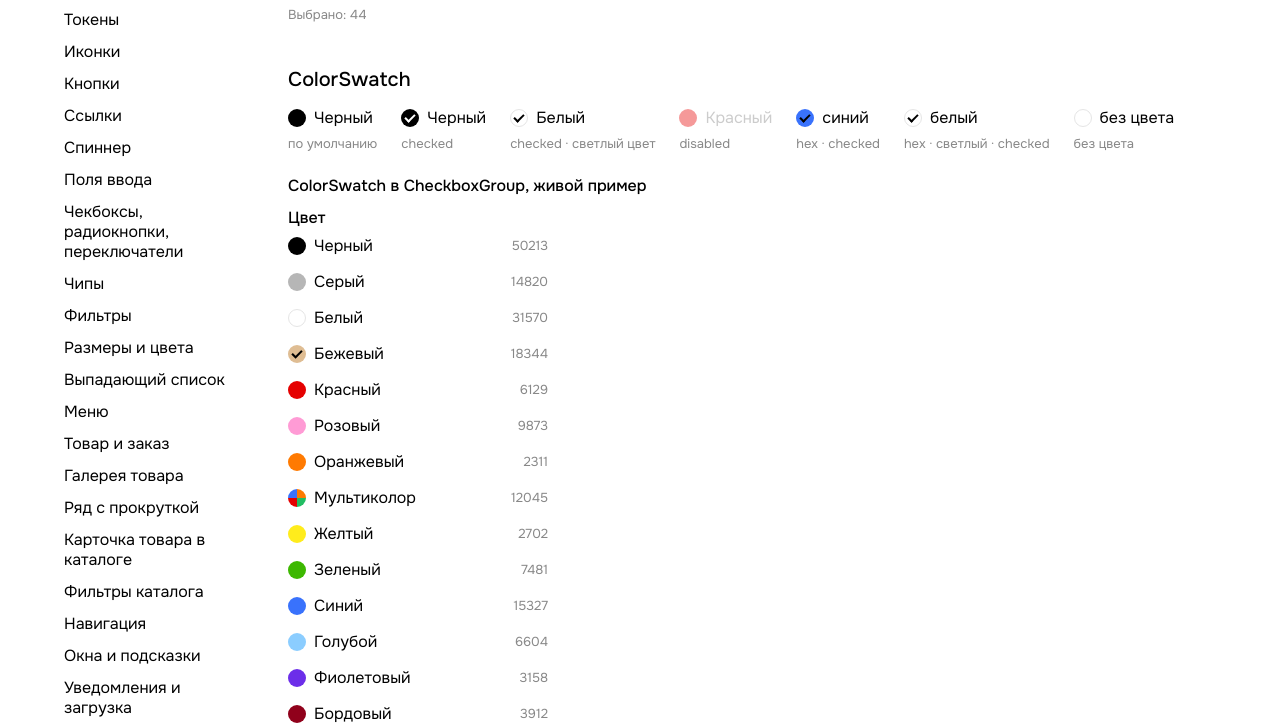
Test: ColorSwatch demo › starts with beige and lists the picked colours
(page scrolled)
Expected: the checkbox named "Бежевый" in the row of "18344" is checked, [288, 345, 306, 363]
Click the text "Красный" next to "6129" at coordinates (347, 390), box [314, 379, 381, 400]
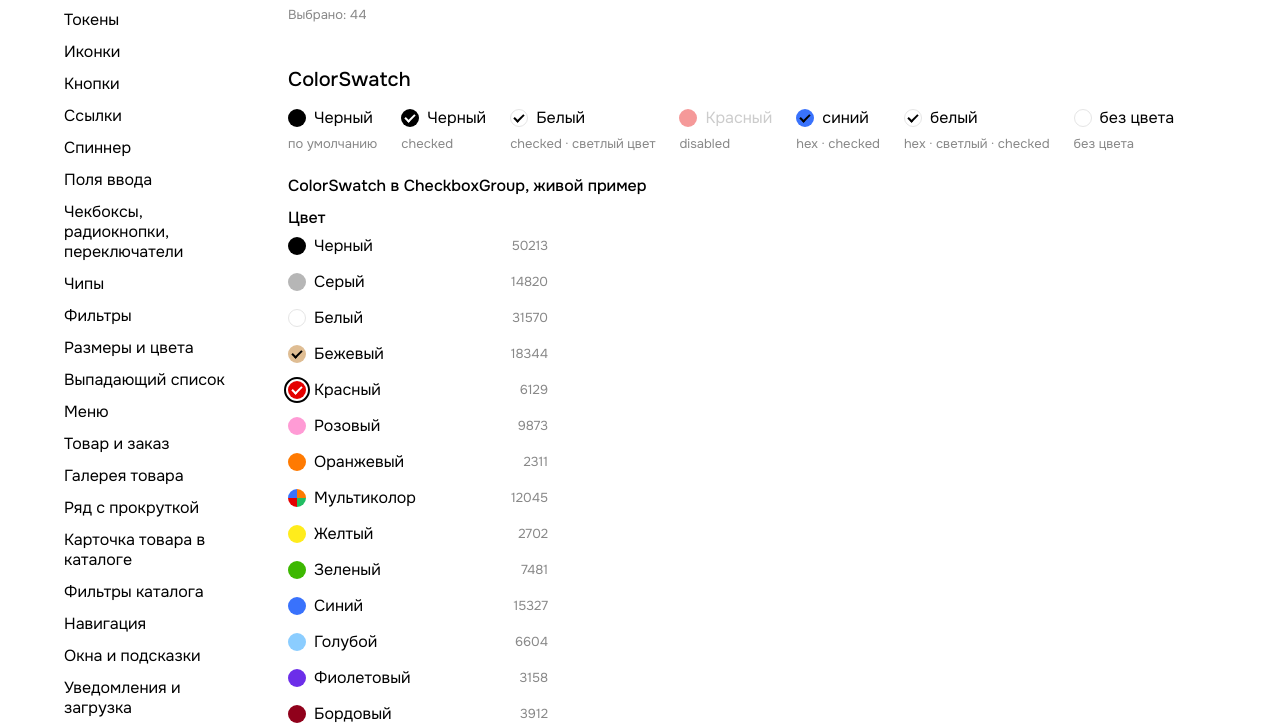
Click the text "Черный" next to "50213" at coordinates (343, 246), box [314, 235, 373, 256]
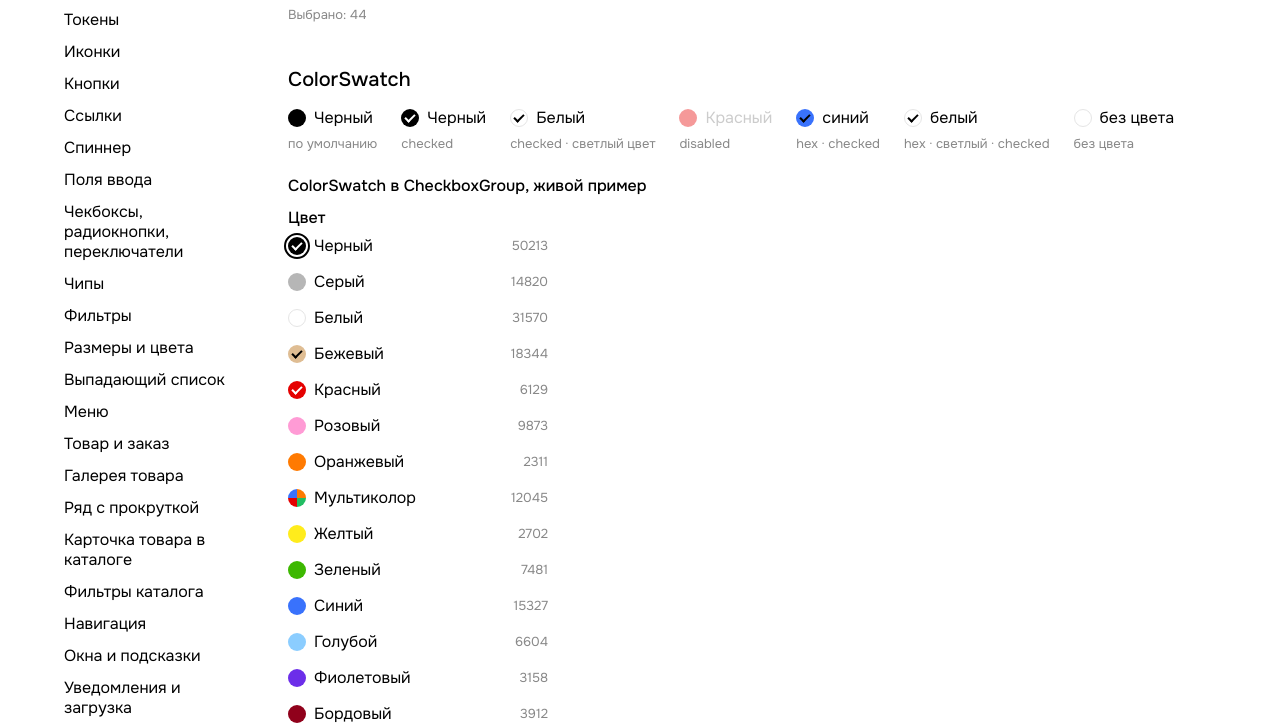
Click the text "Бежевый" at coordinates (349, 354), box [314, 343, 384, 364]
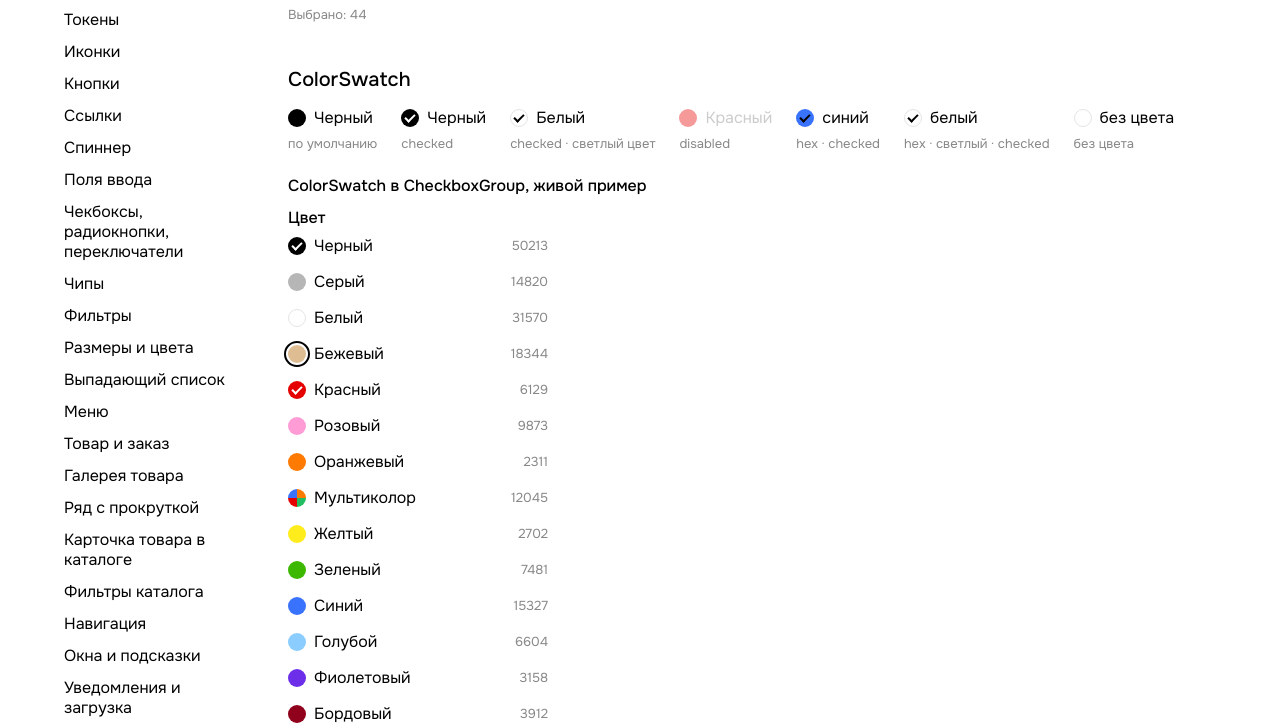
Click the text "Красный" next to "6129" at coordinates (347, 390), box [314, 379, 381, 400]
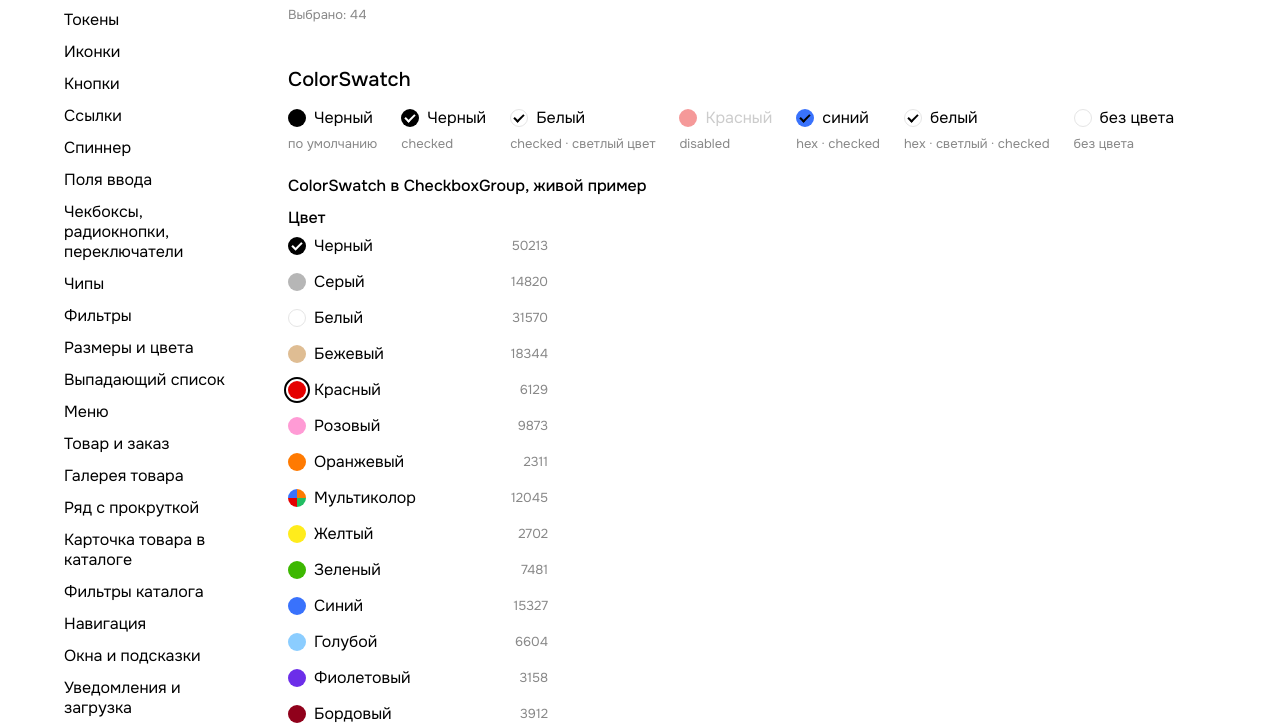
Click the text "Черный" next to "50213" at coordinates (343, 246), box [314, 235, 373, 256]
(page scrolled)
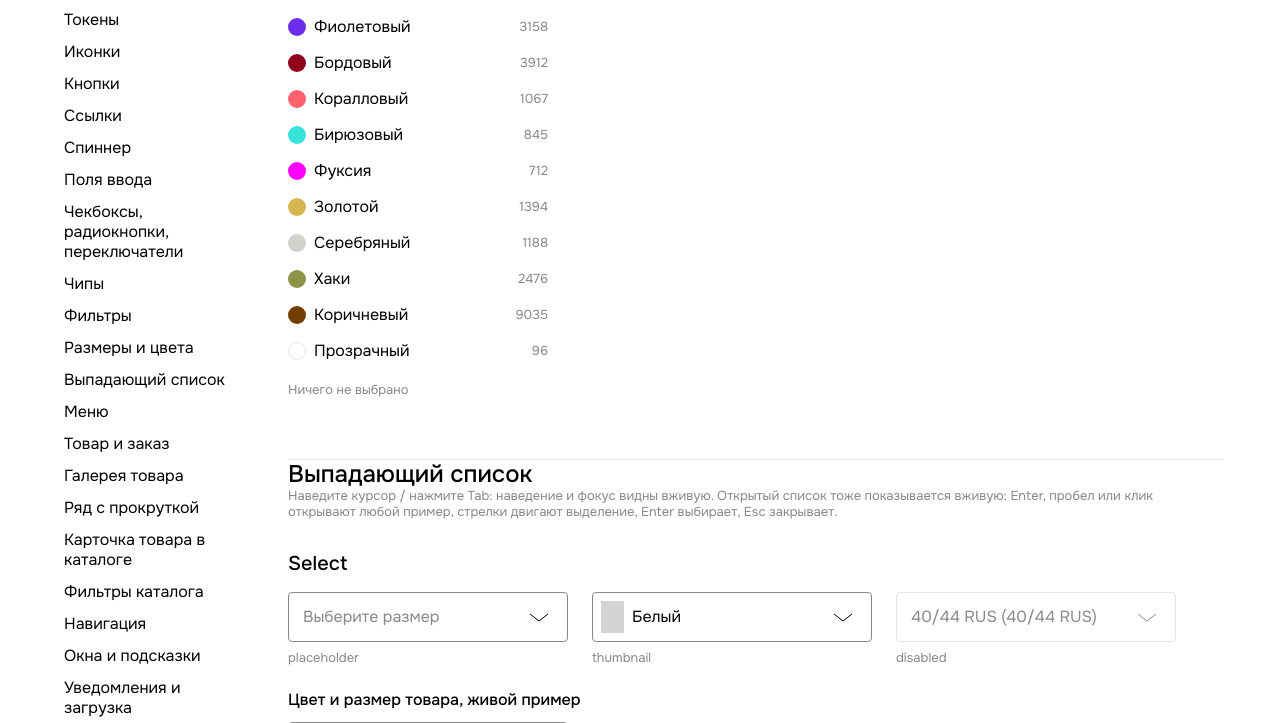
Expected: the text "Ничего не выбрано" is shown, [288, 381, 408, 398]
